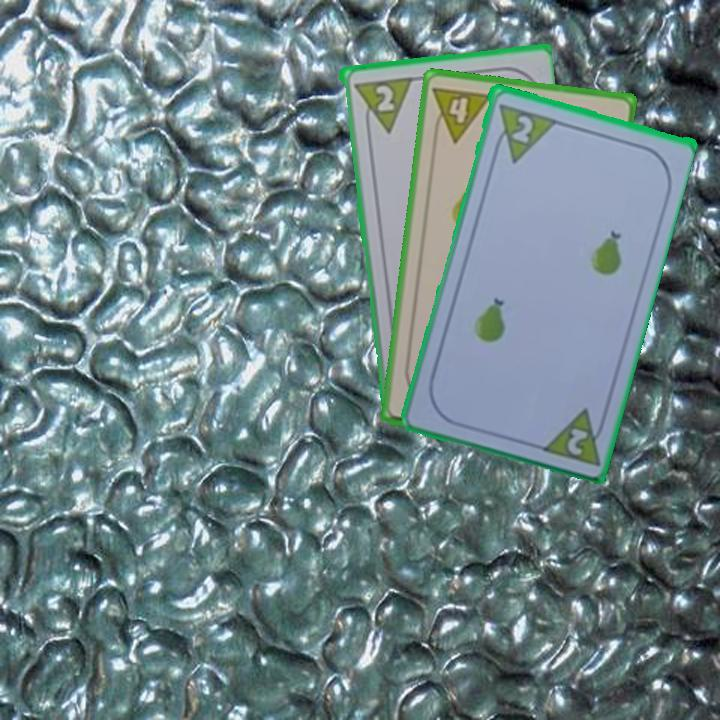2p: (507, 111, 536, 146), (563, 423, 591, 458), (371, 81, 397, 114)
4p: (429, 82, 495, 145)
